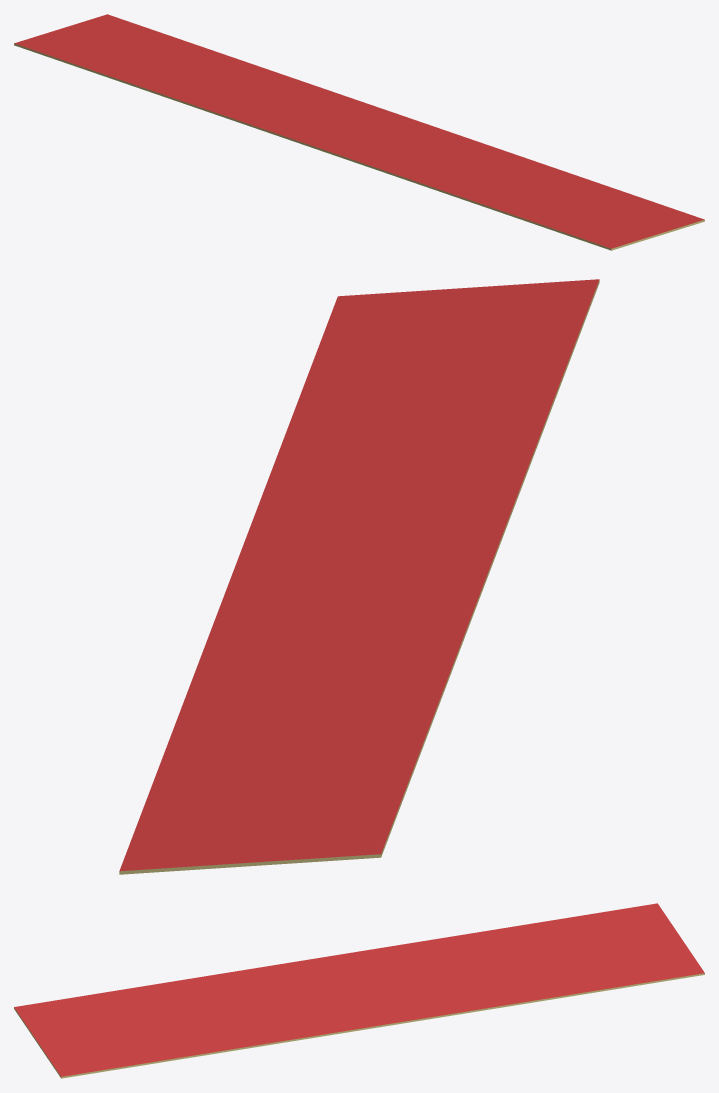
3 renders of one model, top to bottom at view 1: azimuth 30°, elevation 25°; view 2: azimuth 150°, elevation 25°; view 3: azimuth 270°, elevation 25°, orthographic. The views are drawn at different scales.
Bounding box in the file's own units: 19.05 × 35.63 × 1.09.
